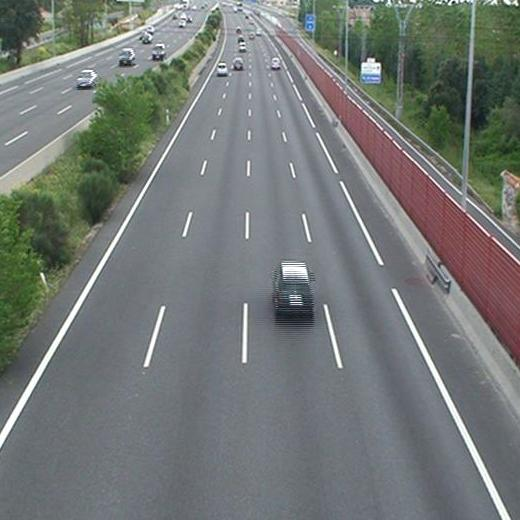car: (274, 263, 313, 315), (217, 63, 227, 76), (271, 57, 280, 68), (234, 59, 242, 69), (239, 42, 245, 51)
